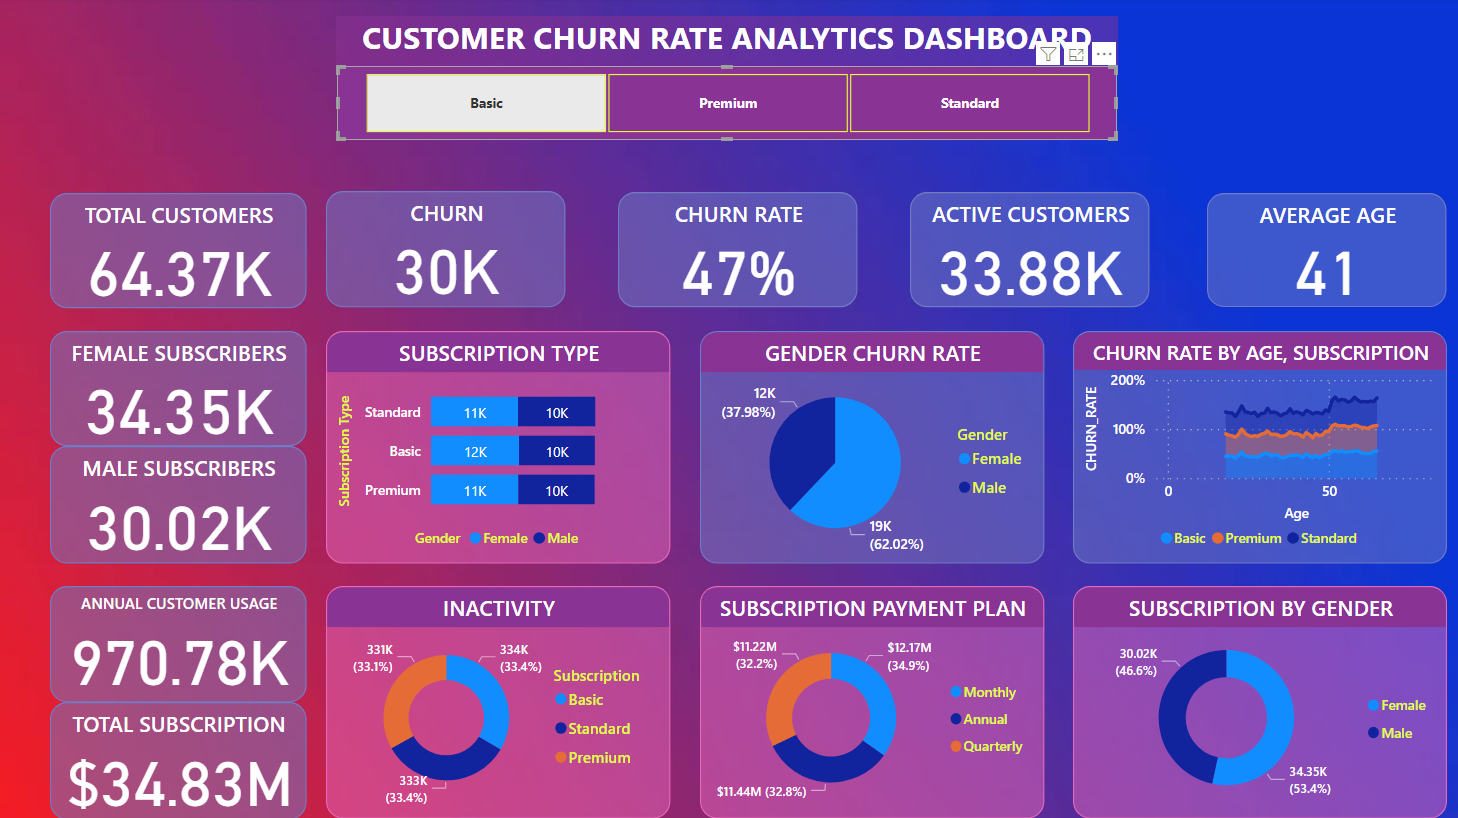

What the dashboard file says about the page in this screenshot:
{"tool":"powerbi","page":{"name":"Page 1","canvas":[1280,720],"ordinal":0},"visuals":[{"type":"card","title":"AVERAGE AGE","fields":{"Values":["customer_churn_dataset-testing-master.AVG_AGE"]},"box":[1028.7,110.5,240.3,109.6],"z":0},{"type":"card","title":"CHURN","fields":{"Values":["Sum(customer_churn_dataset-testing-master.Churn)"]},"box":[270.1,109.6,239.4,110.5],"z":1000},{"type":"card","title":"CHURN RATE","fields":{"Values":["customer_churn_dataset-testing-master.CHURN_RATE"]},"box":[526.2,109.6,239.4,110.5],"z":2000},{"type":"card","title":"TOTAL CUSTOMERS","fields":{"Values":["CountNonNull(customer_churn_dataset-testing-master.CustomerID)"]},"box":[16.7,110.5,240.3,109.6],"z":3000},{"type":"card","title":"ACTIVE CUSTOMERS","fields":{"Values":["customer_churn_dataset-testing-master.ACTIVE_CUSTOMERS"]},"box":[778.8,109.6,239.4,110.5],"z":4000},{"type":"pieChart","title":"GENDER CHURN RATE","fields":{"Category":["customer_churn_dataset-testing-master.Gender"],"Y":["Sum(customer_churn_dataset-testing-master.Churn)"]},"box":[614.7,229.5,301.5,260.7],"z":5000},{"type":"barChart","title":"SUBSCRIPTION TYPE ","fields":{"Category":["customer_churn_dataset-testing-master.Subscription Type"],"Series":["customer_churn_dataset-testing-master.Gender"],"Y":["CountNonNull(customer_churn_dataset-testing-master.CustomerID)"]},"box":[270.4,229.5,318.1,260.7],"z":6000},{"type":"donutChart","title":"INACTIVITY","fields":{"Category":["customer_churn_dataset-testing-master.Subscription Type"],"Y":["Sum(customer_churn_dataset-testing-master.Last Interaction)"]},"box":[270.4,497,318.1,222.7],"z":7000},{"type":"card","title":"TOTAL SUBCRIPTION","fields":{"Values":["Sum(customer_churn_dataset-testing-master.Total Spend)"]},"box":[16.5,490.2,237.3,109.9],"z":8000},{"type":"card","title":"TOTAL ANNUAL CUSTOMER USAGE","fields":{"Values":["Sum(customer_churn_dataset-testing-master.Usage Frequency)"]},"box":[18.5,608.9,240.2,108.9],"z":9000},{"type":"donutChart","title":"SUBSCRPITION BREAKDOWN","fields":{"Category":["customer_churn_dataset-testing-master.Contract Length"],"Y":["Sum(customer_churn_dataset-testing-master.Total Spend)"]},"box":[614.7,497,301.5,222.7],"z":10000},{"type":"textbox","title":"CUSTOMER CHURN RATE ANALYTICS DASHBOARD","box":[16.7,0,685.8,43.8],"z":11000},{"type":"slicer","fields":{"Values":["customer_churn_dataset-testing-master.Subscription Type"]},"box":[18.5,42.8,683.8,65.2],"z":12000},{"type":"donutChart","title":"SUBSCRPITION BY GENDER","fields":{"Category":["customer_churn_dataset-testing-master.Gender"],"Y":["CountNonNull(customer_churn_dataset-testing-master.Subscription Type)"]},"box":[941.5,497,327.8,222.7],"z":13000},{"type":"stackedAreaChart","title":"CHURN RATE BY AGE, SUBSCRIPTION","fields":{"Category":["customer_churn_dataset-testing-master.Age"],"Y":["customer_churn_dataset-testing-master.CHURN_RATE"],"Series":["customer_churn_dataset-testing-master.Subscription Type"]},"box":[941.5,229.5,327.8,260.7],"z":14000},{"type":"card","title":"FEMALE SUBSCRIBERS","fields":{"Values":["CountNonNull(customer_churn_dataset-testing-master.CustomerID)"]},"box":[16.5,229.5,238.3,123.5],"z":15000},{"type":"card","title":"MALE SUBCRIBERS","fields":{"Values":["CountNonNull(customer_churn_dataset-testing-master.CustomerID)"]},"box":[17.5,359.9,237.3,117.7],"z":16000}]}

Visuals, with their boxes in screenshot pixels (x1, y1, x2, y2), scaled from the page's 1280x720 canvas onto the 1458x818 screenshot:
"AVERAGE AGE" card: [x1=1172, y1=126, x2=1445, y2=250]
"CHURN" card: [x1=308, y1=125, x2=580, y2=250]
"CHURN RATE" card: [x1=599, y1=125, x2=872, y2=250]
"TOTAL CUSTOMERS" card: [x1=19, y1=126, x2=293, y2=250]
"ACTIVE CUSTOMERS" card: [x1=887, y1=125, x2=1160, y2=250]
"GENDER CHURN RATE" pieChart: [x1=700, y1=261, x2=1044, y2=557]
"SUBSCRIPTION TYPE " barChart: [x1=308, y1=261, x2=670, y2=557]
"INACTIVITY" donutChart: [x1=308, y1=565, x2=670, y2=817]
"TOTAL SUBCRIPTION" card: [x1=19, y1=557, x2=289, y2=682]
"TOTAL ANNUAL CUSTOMER USAGE" card: [x1=21, y1=692, x2=295, y2=816]
"SUBSCRPITION BREAKDOWN" donutChart: [x1=700, y1=565, x2=1044, y2=817]
"CUSTOMER CHURN RATE ANALYTICS DASHBOARD" textbox: [x1=19, y1=0, x2=800, y2=50]
slicer - customer_churn_dataset-testing-master.Subscription Type: [x1=21, y1=49, x2=800, y2=123]
"SUBSCRPITION BY GENDER" donutChart: [x1=1072, y1=565, x2=1446, y2=817]
"CHURN RATE BY AGE, SUBSCRIPTION" stackedAreaChart: [x1=1072, y1=261, x2=1446, y2=557]
"FEMALE SUBSCRIBERS" card: [x1=19, y1=261, x2=290, y2=401]
"MALE SUBCRIBERS" card: [x1=20, y1=409, x2=290, y2=543]
